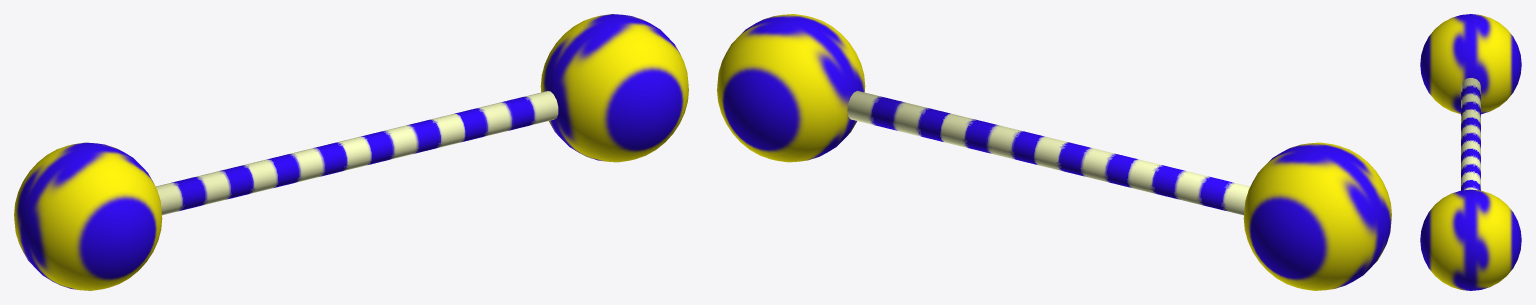
The model's file is Rod.fbx.
3 renders of one model, left to right at view 1: azimuth 30°, elevation 25°; view 2: azimuth 150°, elevation 25°; view 3: azimuth 270°, elevation 25°, orthographic. The views are drawn at different scales.
Visible parts, largest first — view 1: Sphere.001, Sphere.003, Cylinder; view 2: Sphere.001, Sphere.003, Cylinder; view 3: Sphere.003, Sphere.001, Cylinder.
Boxes of the visible parts, bbox=[...] form: Sphere.001: bbox=[14, 142, 162, 290]; Sphere.003: bbox=[540, 14, 688, 162]; Cylinder: bbox=[156, 91, 558, 215]; Sphere.001: bbox=[1243, 142, 1391, 290]; Sphere.003: bbox=[717, 14, 865, 162]; Cylinder: bbox=[847, 90, 1249, 215]; Sphere.003: bbox=[1420, 189, 1521, 290]; Sphere.001: bbox=[1420, 14, 1521, 114]; Cylinder: bbox=[1461, 78, 1480, 190].
Bounding box in the file's own units: 509 × 100 × 100.
2 materials, 2 textured.
